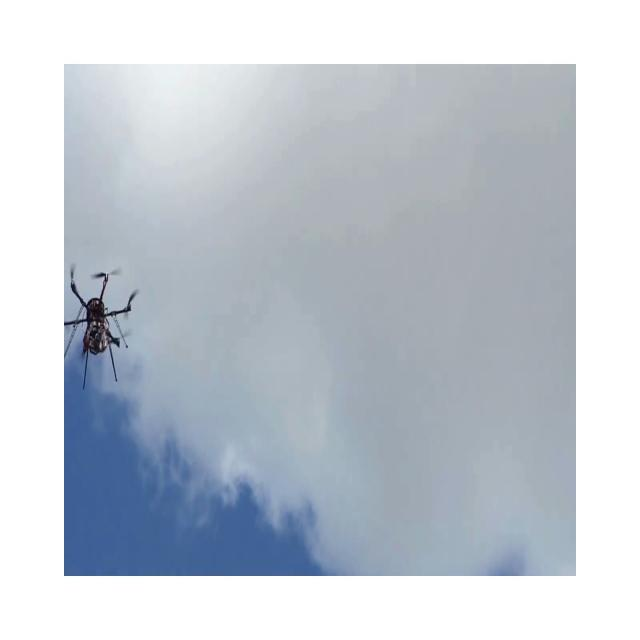drone: (64, 262, 139, 390)
